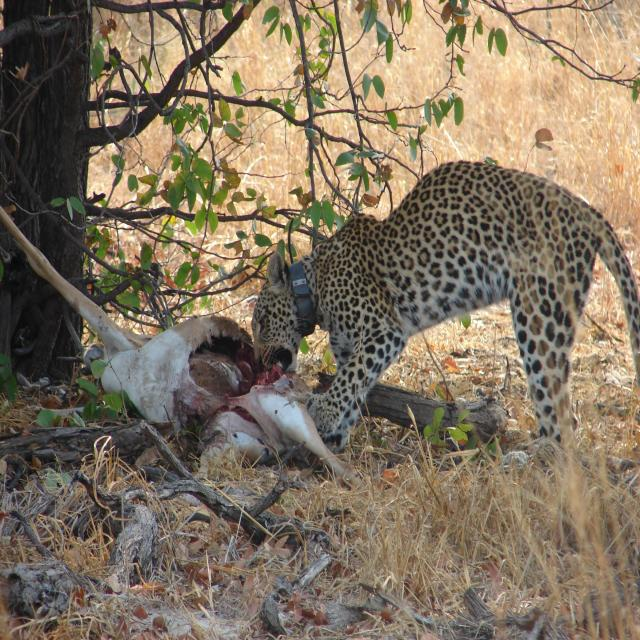Leopard: (264, 152, 634, 487)
